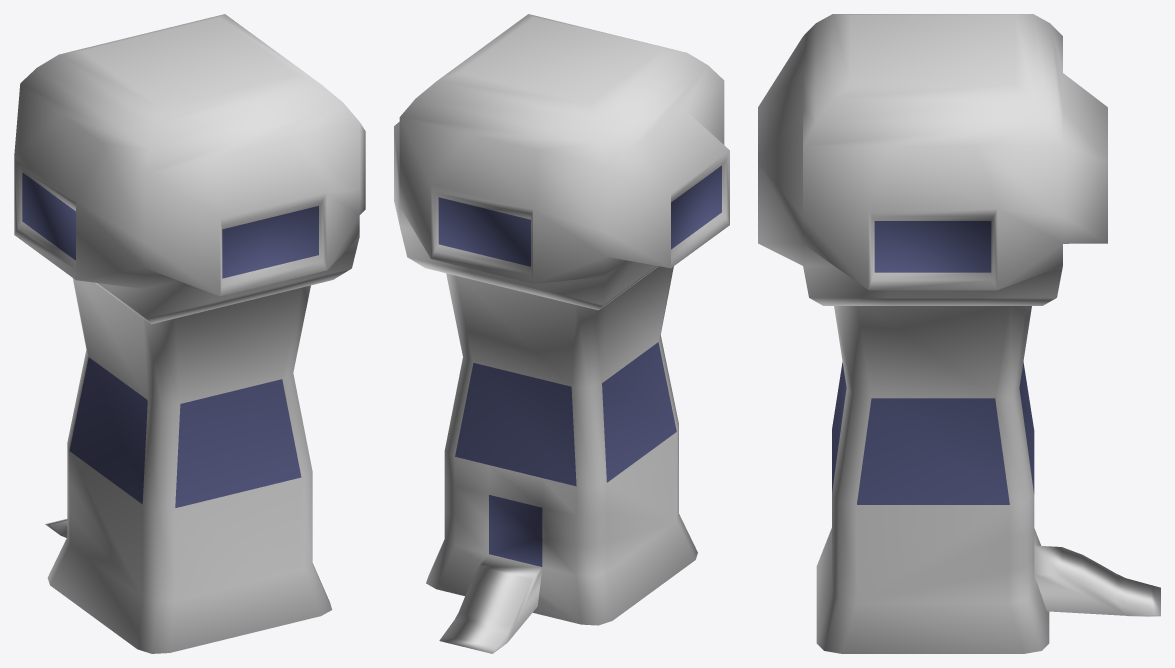
3 views of the same model, side by side, from view 1: azimuth 30°, elevation 25°; view 2: azimuth 150°, elevation 25°; view 3: azimuth 270°, elevation 25° (orthographic). The views are drawn at different scales.
Visible parts, largest first — view 1: Cube; view 2: Cube; view 3: Cube.
Boxes of the visible parts, bbox=[...] form: Cube: bbox=[14, 14, 365, 653]; Cube: bbox=[394, 14, 729, 653]; Cube: bbox=[758, 14, 1160, 653].
Size of the model in its own units: 346 by 607 by 398.
